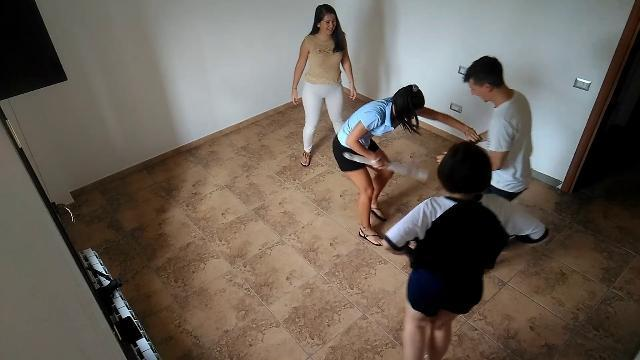non-violence: (394, 144, 536, 360), (288, 3, 359, 169)
violence: (329, 53, 536, 245)
